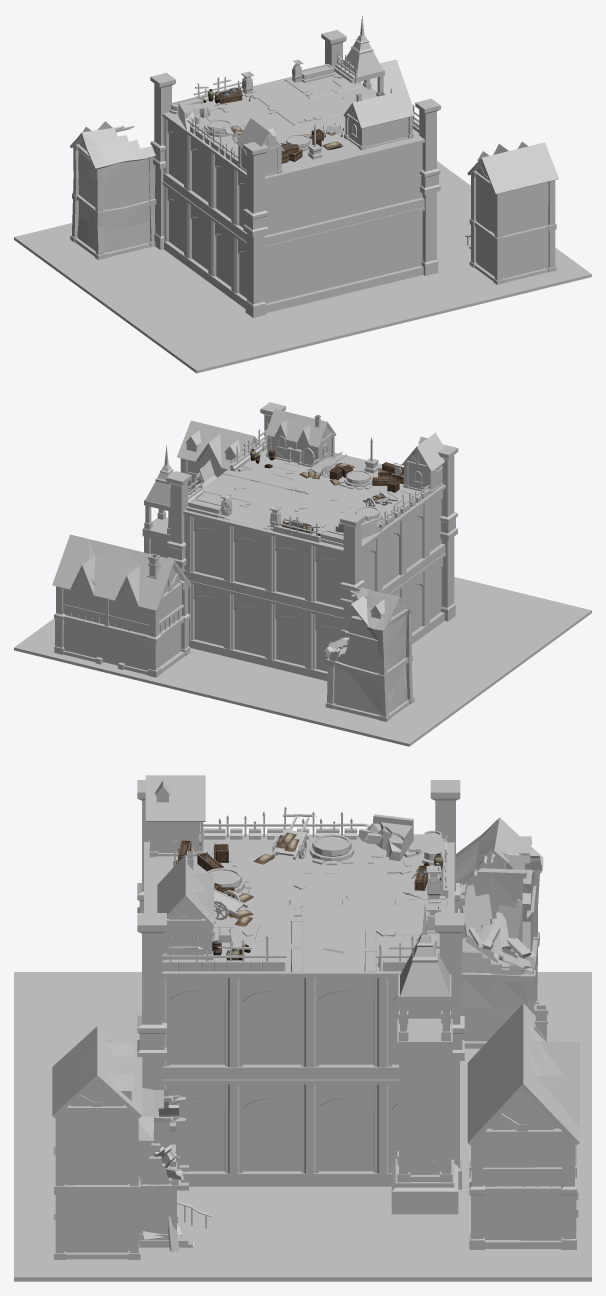
Rendered from Cell2LD_RU.fbx.
The picture shows the model from 3 angles, top to bottom: view 1: azimuth 30°, elevation 25°; view 2: azimuth 150°, elevation 25°; view 3: azimuth 270°, elevation 25°; orthographic projection. The views are drawn at different scales.
Parts seen in each view (by area): view 1: Cell2LD_RU; view 2: Cell2LD_RU; view 3: Cell2LD_RU.
Boxes of the visible parts, left/top/right/bottom form: Cell2LD_RU: left=14, top=16, right=591, bottom=373; Cell2LD_RU: left=14, top=402, right=591, bottom=746; Cell2LD_RU: left=14, top=775, right=591, bottom=1281.
Size of the model in its own units: 52.54 by 24.59 by 42.03.
